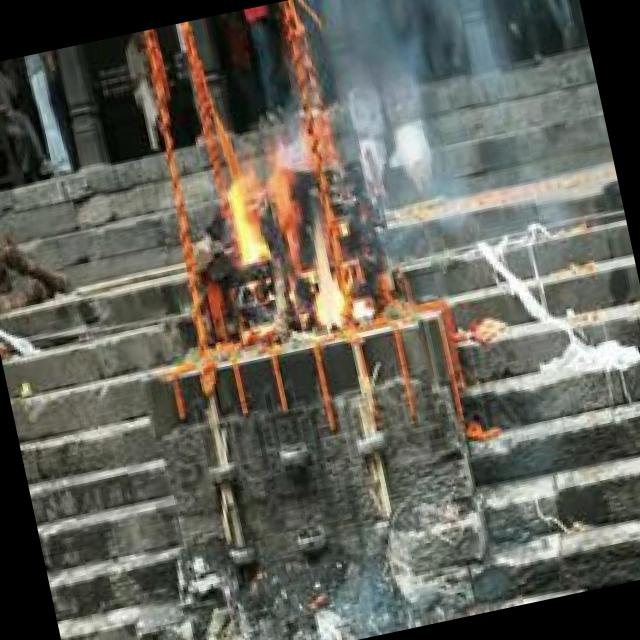Fire: (205, 127, 348, 349)
